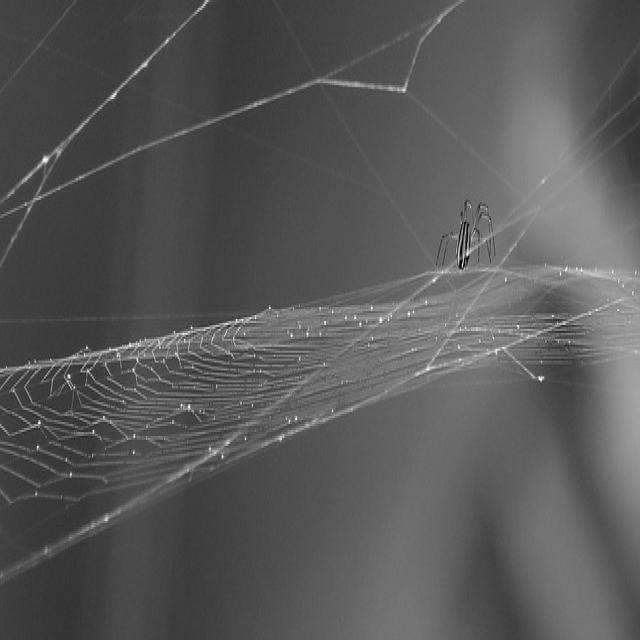spyder: (449, 200, 494, 269)
